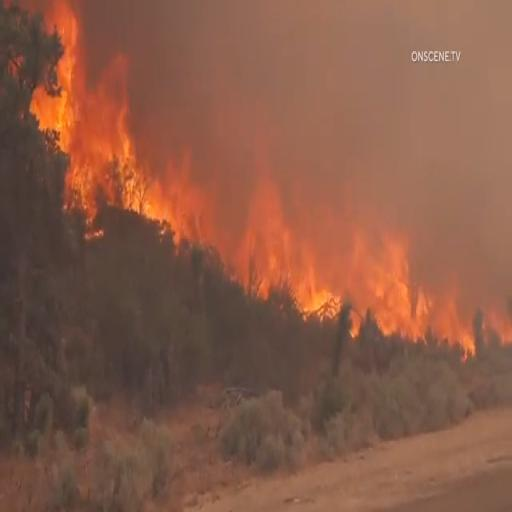fire: (232, 186, 437, 355), (28, 4, 136, 218), (134, 163, 218, 236)
smoke: (198, 1, 380, 167)
